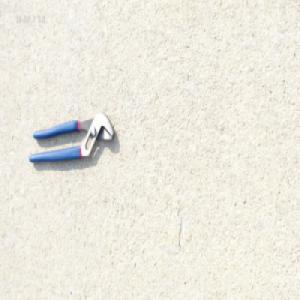Pliers: (27, 110, 115, 166)
